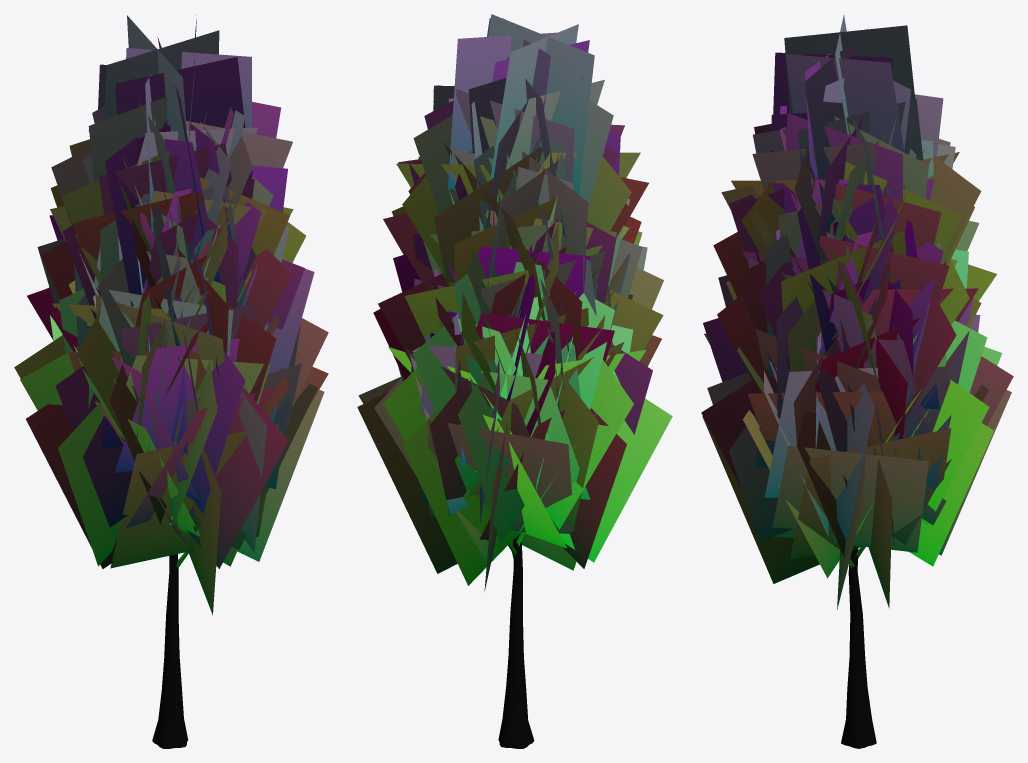
File: Tree_6_6.fbx
The picture shows the model from 3 angles, left to right: view 1: azimuth 30°, elevation 25°; view 2: azimuth 150°, elevation 25°; view 3: azimuth 270°, elevation 25°; orthographic projection.
Visible parts, largest first — view 1: _6; view 2: _6; view 3: _6.
Part boxes in pixels (bbox=[...]): _6: bbox=[14, 15, 328, 748]; _6: bbox=[357, 14, 672, 748]; _6: bbox=[701, 15, 1013, 748].
Bounding box in the file's own units: 451 × 1056 × 424.
